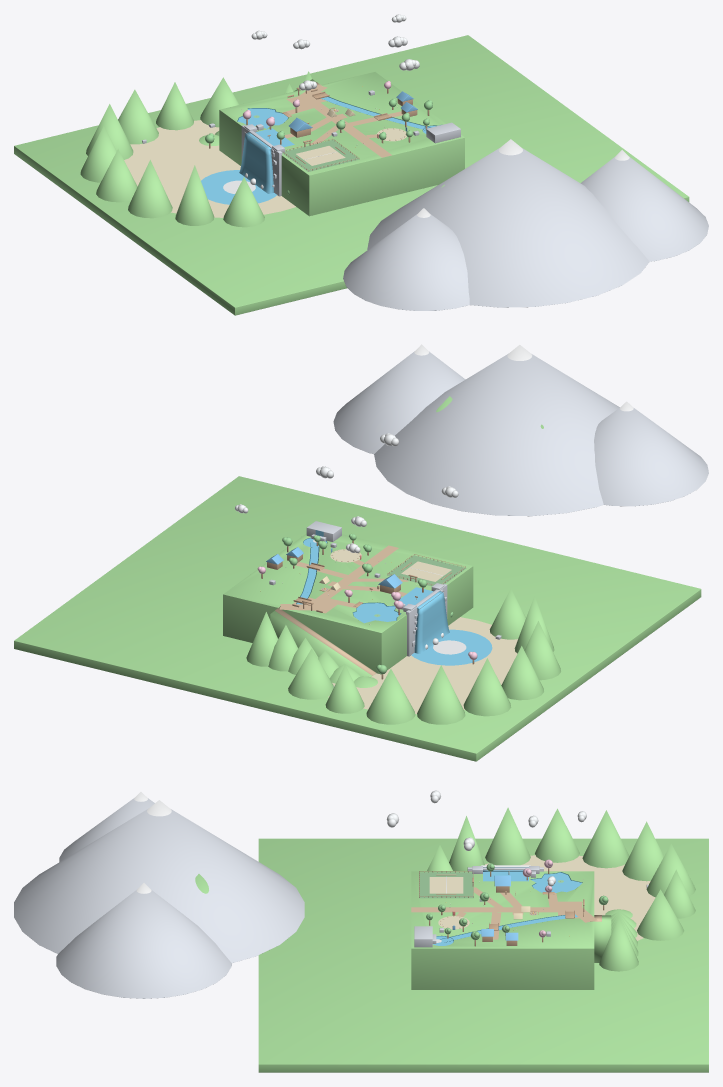
The model's file is camp_base.glb.
3 views of the same model, one above another, from view 1: azimuth 30°, elevation 25°; view 2: azimuth 150°, elevation 25°; view 3: azimuth 270°, elevation 25° (orthographic).
Visible parts, largest first — view 1: Base_ground, prop_mtn_main_rock, Camp_ground, prop_mtn_sh_l_rock, prop_mtn_sh_r_rock, Beach_ground, Bound_hill_cliff_2, water_wf_sheet, Bound_hill_cliff_1, Bound_hill_cliff_3, Bound_hill_cliff_6, Bound_hill_cliff_0 (+11 smaller); view 2: Base_ground, prop_mtn_main_rock, Camp_ground, prop_mtn_sh_l_rock, prop_mtn_sh_r_rock, Beach_ground, Bound_hill_cliff_5, Bound_hill_cliff_6, Bound_hill_cliff_4, water_wf_pool, water_wf_sheet, Bound_hill_cliff_8 (+11 smaller); view 3: Base_ground, prop_mtn_main_rock, Camp_ground, prop_mtn_sh_r_rock, Beach_ground, Bound_hill_cliff_4, Bound_hill_cliff_2, Bound_hill_cliff_5, Bound_hill_cliff_8, Bound_hill_cliff_3, prop_mtn_sh_l_rock, Bound_ramphill_cliff_0 (+8 smaller).
Boxes of the visible parts, x1,y1,x2,y2 form: Base_ground: (14,35,689,315); prop_mtn_main_rock: (367,148,649,307); Camp_ground: (219,72,464,216); prop_mtn_sh_l_rock: (343,214,469,310); prop_mtn_sh_r_rock: (580,156,708,261); Beach_ground: (124,120,295,217); Bound_hill_cliff_2: (128,160,172,218); water_wf_sheet: (239,132,273,193); Bound_hill_cliff_1: (175,165,214,225); Bound_hill_cliff_3: (96,149,137,202); Bound_hill_cliff_6: (118,89,158,144); Bound_hill_cliff_0: (223,177,264,227); Base_ground: (14,476,701,761); prop_mtn_main_rock: (374,353,619,516); Camp_ground: (223,533,473,674); prop_mtn_sh_l_rock: (594,408,708,506); prop_mtn_sh_r_rock: (333,351,465,454); Beach_ground: (328,617,517,714); Bound_hill_cliff_5: (417,665,465,724); Bound_hill_cliff_6: (366,669,415,724); Bound_hill_cliff_4: (463,658,511,716); water_wf_pool: (411,629,492,665); water_wf_sheet: (414,591,449,653); Bound_hill_cliff_8: (288,648,333,699); Base_ground: (258,838,708,1072); prop_mtn_main_rock: (14,809,304,963); Camp_ground: (411,871,594,989); prop_mtn_sh_r_rock: (56,890,231,998); Beach_ground: (485,855,655,940); Bound_hill_cliff_4: (582,810,629,868); Bound_hill_cliff_2: (485,807,530,865); Bound_hill_cliff_5: (622,821,663,881); Bound_hill_cliff_8: (637,889,684,940); Bound_hill_cliff_3: (535,808,579,862); prop_mtn_sh_l_rock: (59,798,154,861); Bound_ramphill_cliff_0: (599,916,638,971).
Bounding box in the file's own units: 350 × 116 × 455.
